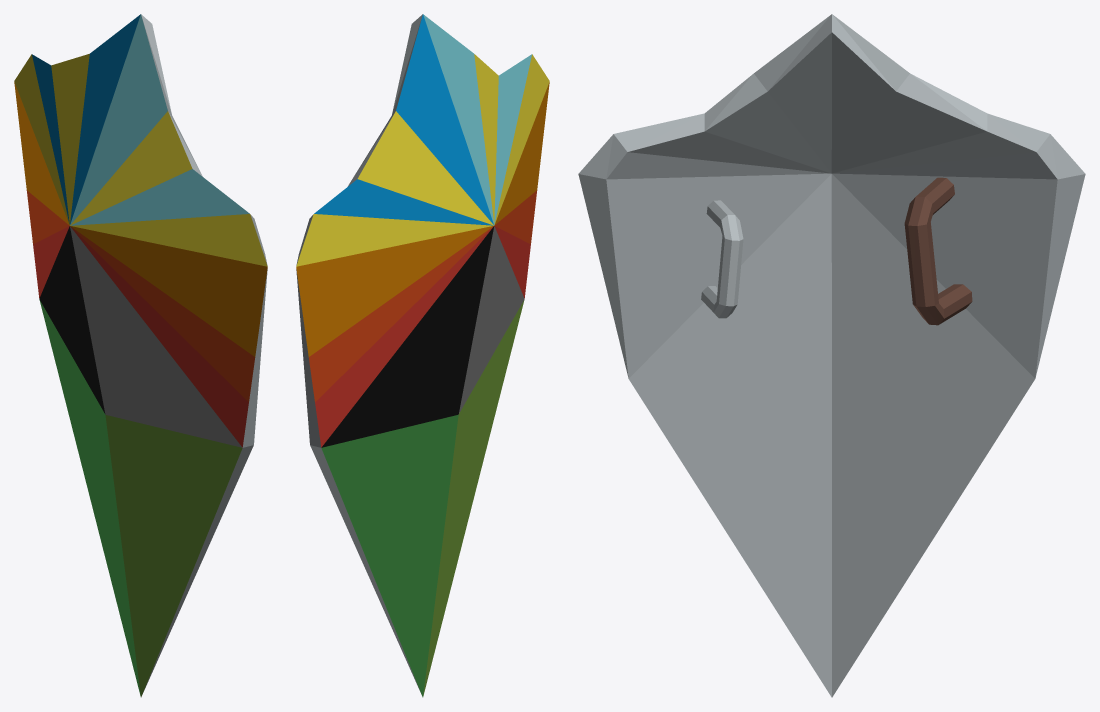
The picture shows the model from 3 angles, left to right: view 1: azimuth 30°, elevation 25°; view 2: azimuth 150°, elevation 25°; view 3: azimuth 270°, elevation 25°; orthographic projection.
Visible parts, largest first — view 1: node_MeshObject1115060864-PolyPaper20; view 2: node_MeshObject1115060864-PolyPaper20; view 3: node_MeshObject1115060864-PolyPaper20.
Boxes of the visible parts, left/top/right/bottom form: node_MeshObject1115060864-PolyPaper20: left=14, top=14, right=267, bottom=697; node_MeshObject1115060864-PolyPaper20: left=296, top=14, right=549, bottom=697; node_MeshObject1115060864-PolyPaper20: left=578, top=14, right=1085, bottom=697.
Bounding box in the file's own units: 0.1021 × 0.54 × 0.363.
